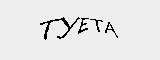А: (104, 20, 122, 39)
Е: (77, 14, 90, 34)
Т: (35, 16, 61, 41), (88, 16, 104, 36)
У: (53, 17, 80, 40)
